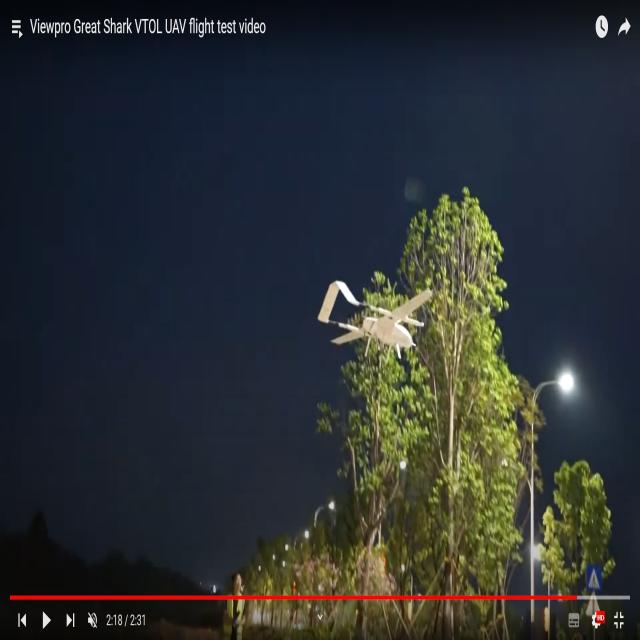iha: (348, 312, 400, 328)
